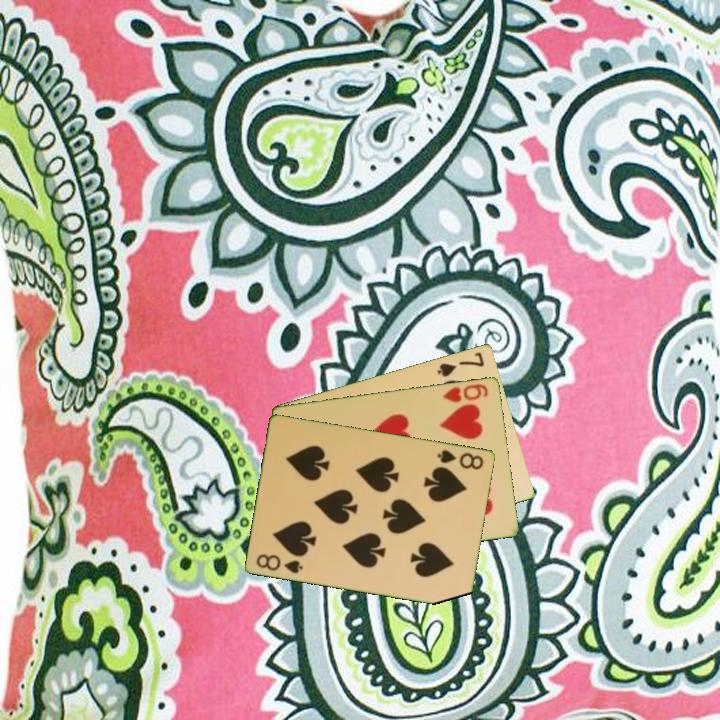6h: (439, 380, 491, 405)
7s: (434, 348, 487, 379)
8s: (434, 446, 487, 472), (253, 550, 306, 576)
